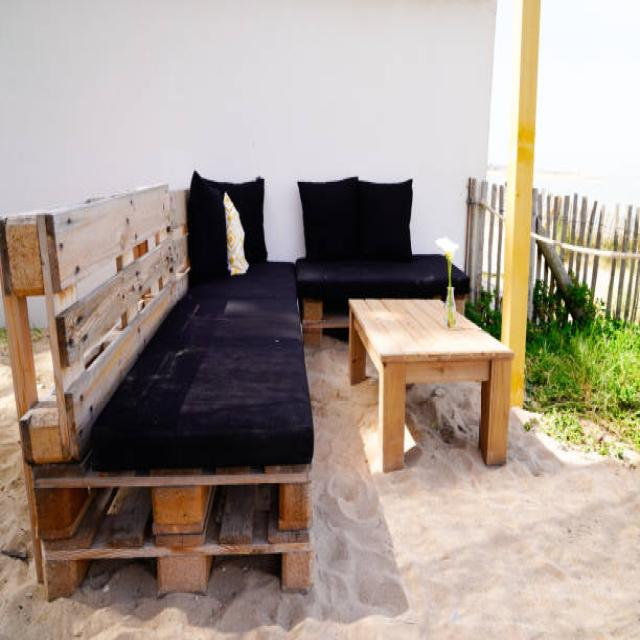Wooden-Pallets: (36, 463, 317, 599), (34, 462, 322, 548), (32, 528, 321, 613)
